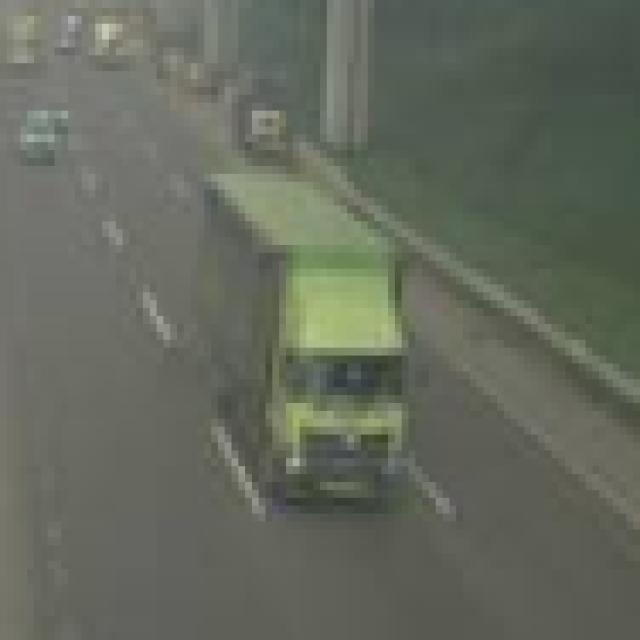Truck: (169, 152, 444, 517)
